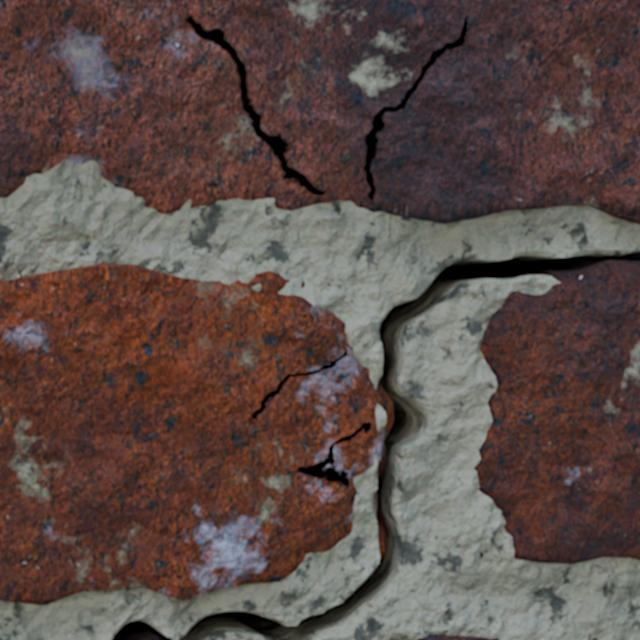crack: (0, 249, 639, 639), (0, 0, 639, 223), (112, 619, 169, 639), (418, 634, 489, 639)
